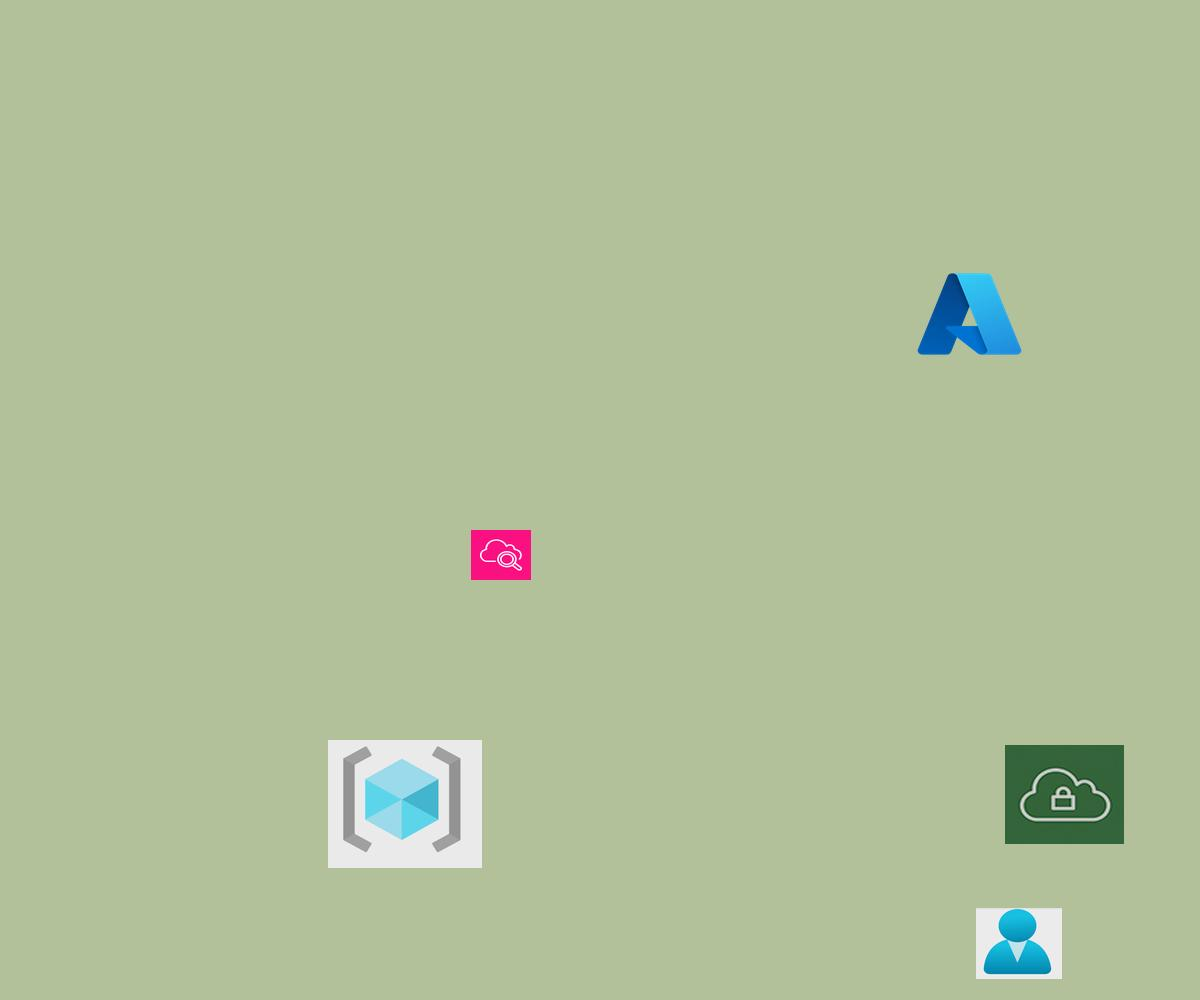AWS-CloudWatch: (471, 530, 531, 580)
AWS-Private_vpc: (1005, 745, 1124, 844)
Azure_resource_group: (328, 740, 482, 868)
Azure_services: (913, 267, 1026, 361)
Azure_users: (976, 908, 1062, 979)
